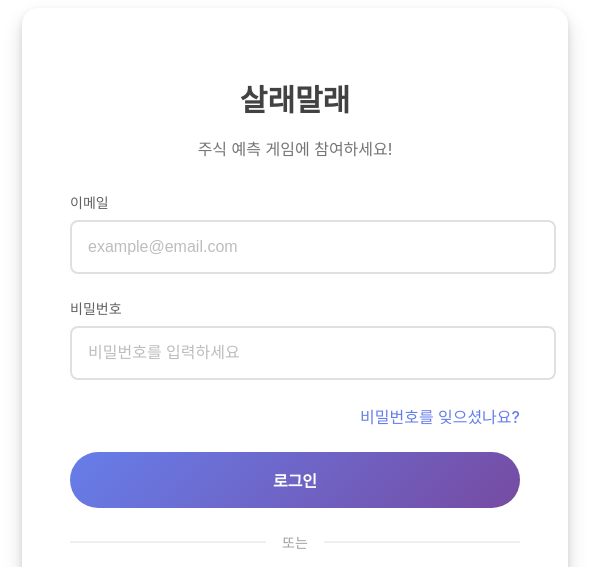
Test: Validation Message Display › Real-time Validation Feedback › 포커스를 잃은 후에만 유효성 검사를 시작해야 함
Note: Type without blur - should not show error yet
Type "inva" into the field labelled "이메일" at (313, 247), box 70,220 -> 556,274
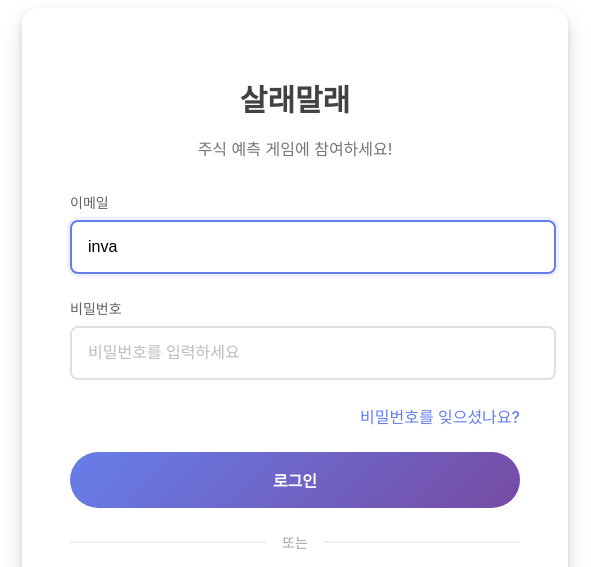
Note: Blur to trigger validation
Leave the field labelled "이메일", box 70,220 -> 556,274
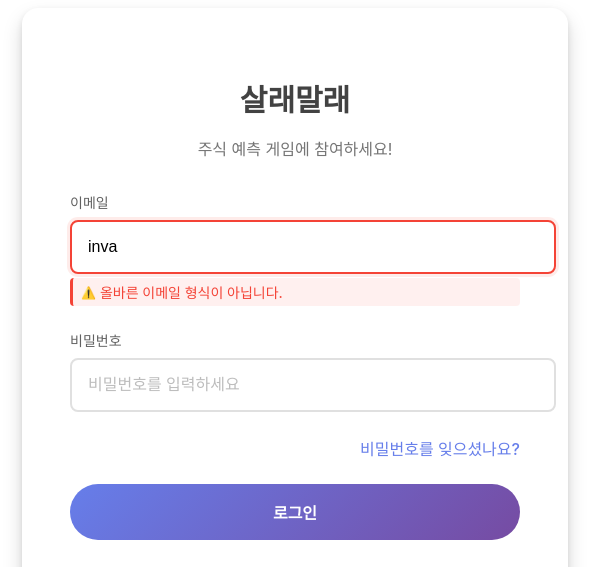
Check: the message "올바른 이메일 형식이 아닙니다." is shown, box 70,278 -> 520,306
